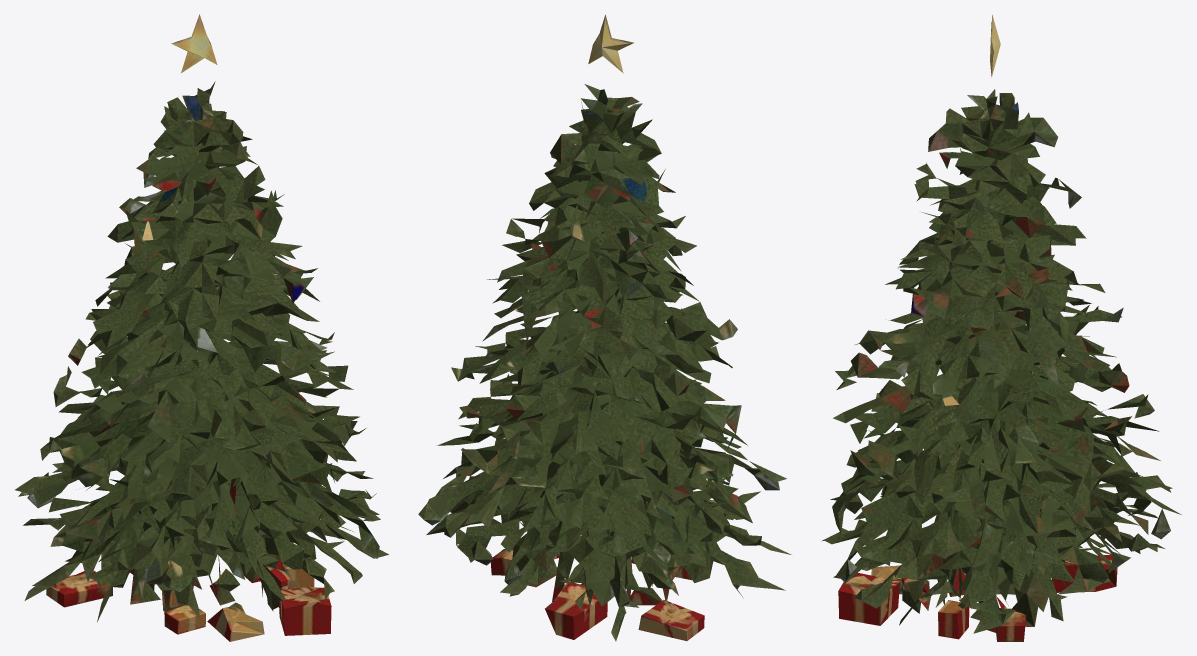
Rendered from ny_tree.glb.
3 views of the same model, side by side, from view 1: azimuth 30°, elevation 25°; view 2: azimuth 150°, elevation 25°; view 3: azimuth 270°, elevation 25° (orthographic).
Bounding box in the file's own units: 1.2 × 1.9 × 1.08.
1 material, 1 textured.
